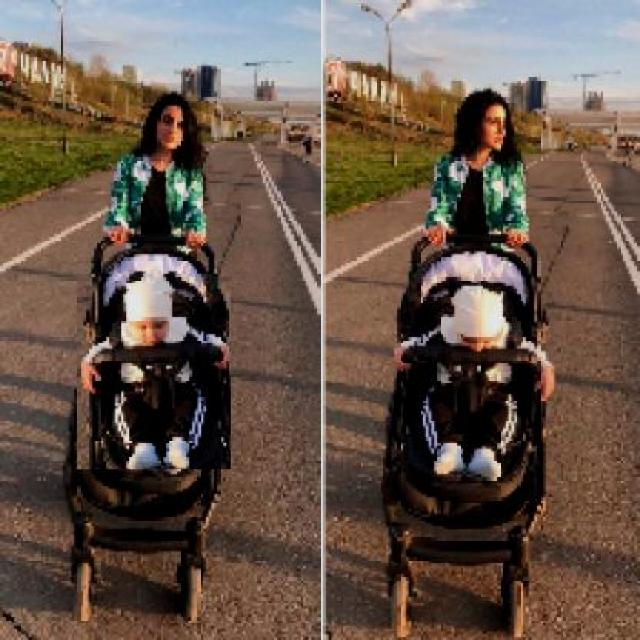adult: (423, 88, 530, 250), (107, 91, 208, 247)
child: (393, 284, 556, 482), (77, 274, 232, 472)
